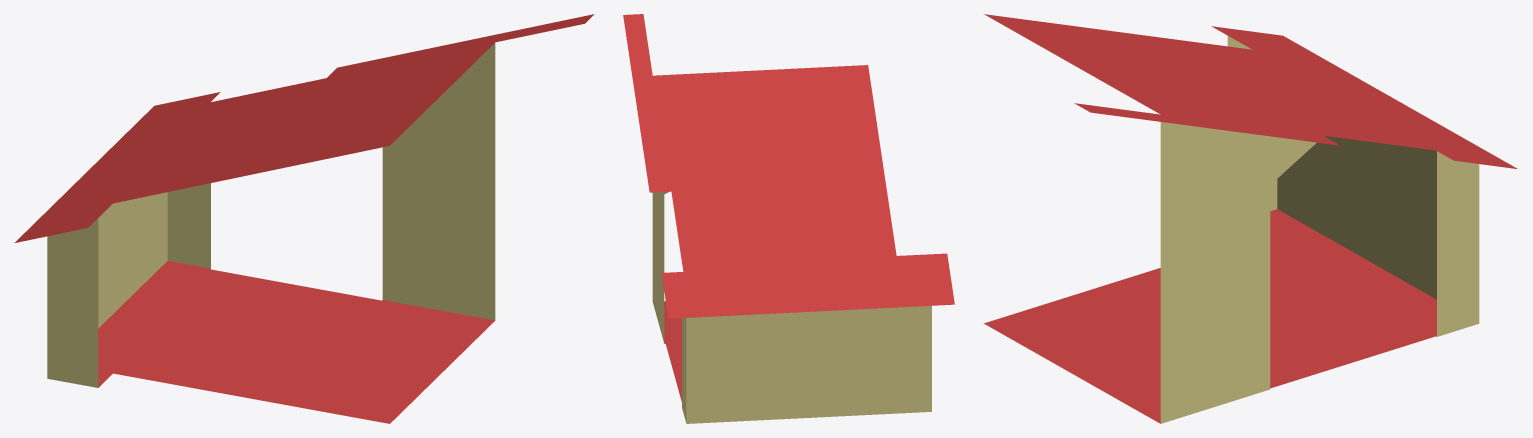
3 renders of one model, left to right at view 1: azimuth 30°, elevation 25°; view 2: azimuth 150°, elevation 25°; view 3: azimuth 270°, elevation 25°, orthographic. The views are drawn at different scales.
Bounding box in the file's own units: 16.96 × 14.3 × 10.27.
